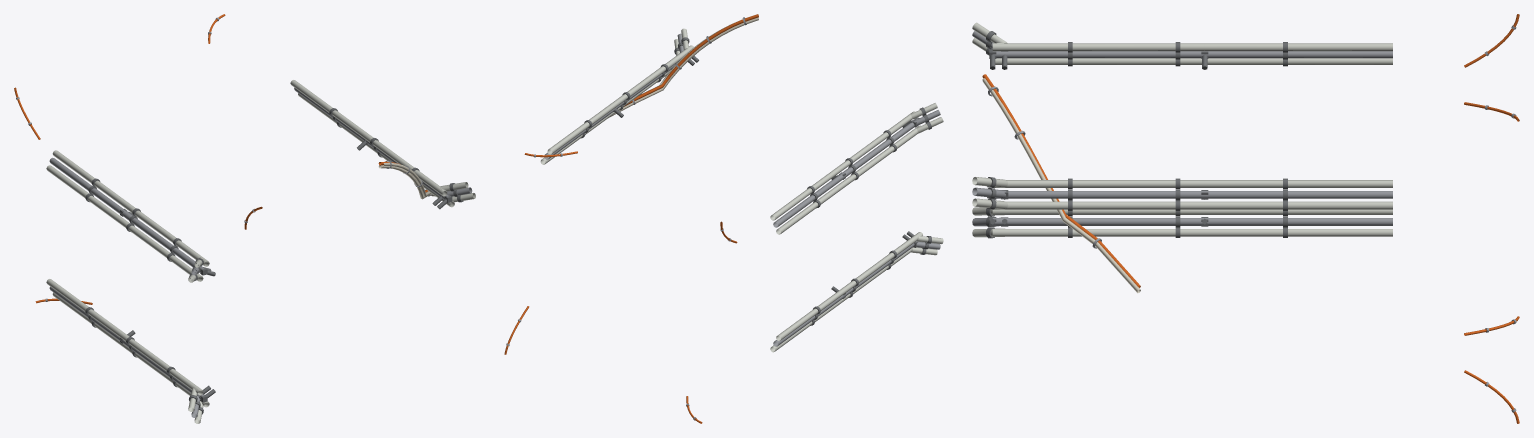
The model's file is u73l_pipes.obj.
3 renders of one model, left to right at view 1: azimuth 30°, elevation 25°; view 2: azimuth 150°, elevation 25°; view 3: azimuth 270°, elevation 25°, orthographic. The views are drawn at different scales.
Parts seen in each view (by area): view 1: u73l_pipes; view 2: u73l_pipes; view 3: u73l_pipes.
Boxes of the visible parts, <box> form: u73l_pipes: <box>14,14,475,423</box>; u73l_pipes: <box>504,14,943,423</box>; u73l_pipes: <box>972,14,1519,423</box>.
Bounding box in the file's own units: 4.07 × 3.1 × 4.58.
